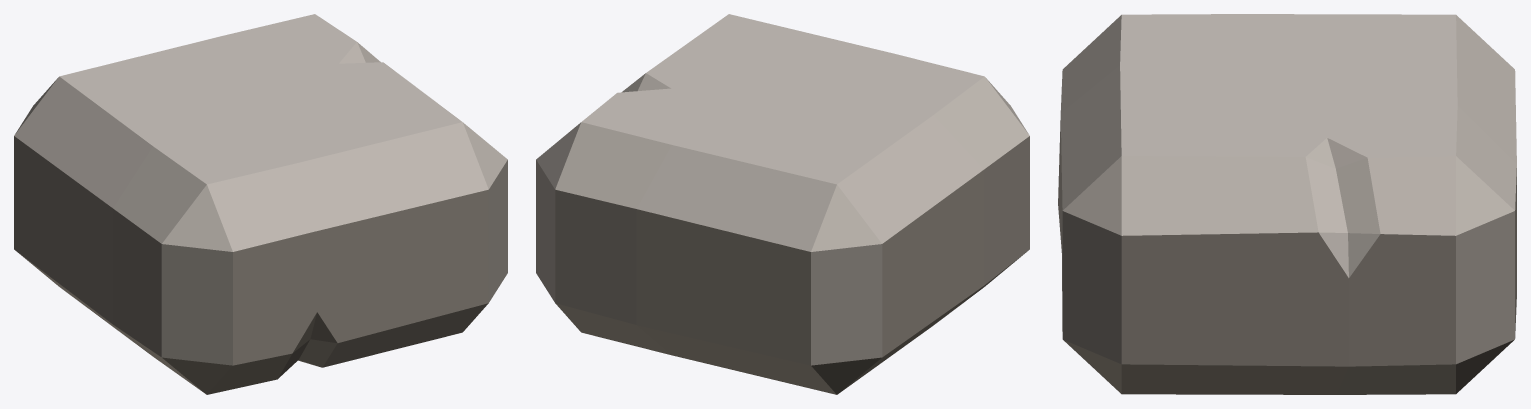
File: m_kub_stone_floorBrickMini.FBX
The picture shows the model from 3 angles, left to right: view 1: azimuth 30°, elevation 25°; view 2: azimuth 150°, elevation 25°; view 3: azimuth 270°, elevation 25°; orthographic projection. The views are drawn at different scales.
Visible parts, largest first — view 1: m_kub_stone_floorBrickMini; view 2: m_kub_stone_floorBrickMini; view 3: m_kub_stone_floorBrickMini.
Boxes of the visible parts, <box> form: m_kub_stone_floorBrickMini: <box>14,14,507,394</box>; m_kub_stone_floorBrickMini: <box>536,14,1029,394</box>; m_kub_stone_floorBrickMini: <box>1058,14,1516,394</box>.
Size of the model in its own units: 1.19 by 0.6828 by 1.19.
